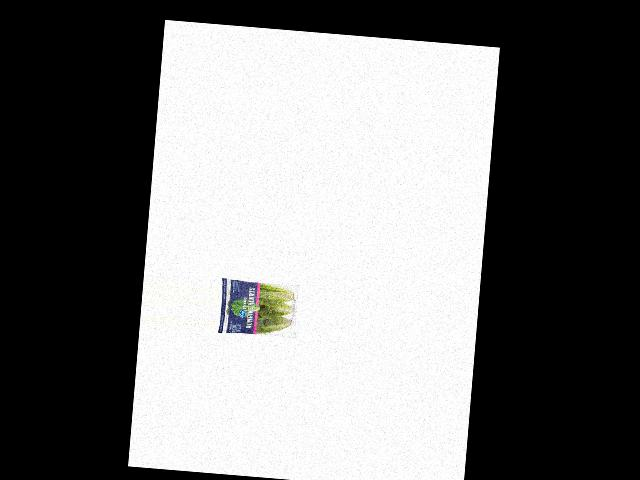lettuce: (219, 275, 297, 341)
